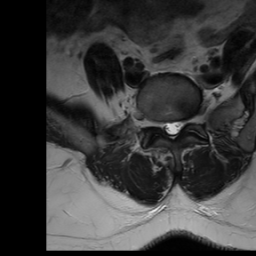CCS_stenosis: (169, 112, 176, 144)
LFS_stenosis: (183, 110, 191, 132)
LLS_normal: (176, 112, 183, 138)
RFS_stenosis: (153, 110, 161, 135)
RLS_normal: (161, 112, 169, 138)
